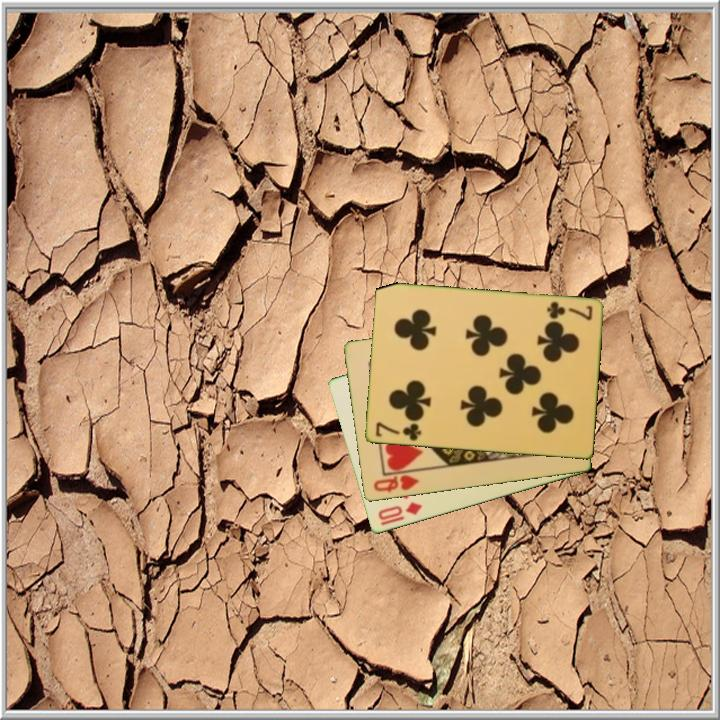10d: (374, 499, 425, 523)
7c: (543, 298, 595, 324), (372, 419, 424, 444)
Qh: (370, 471, 422, 495)
